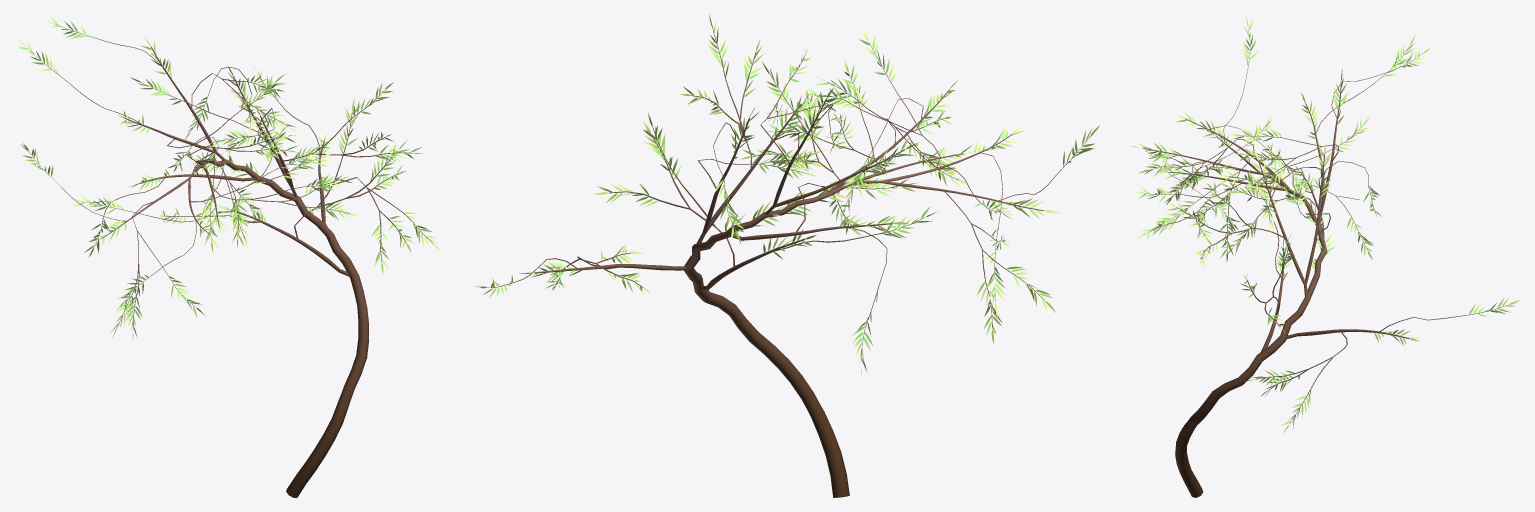
The model's file is Branch2.fbx.
3 renders of one model, left to right at view 1: azimuth 30°, elevation 25°; view 2: azimuth 150°, elevation 25°; view 3: azimuth 270°, elevation 25°, orthographic. The views are drawn at different scales.
Visible parts, largest first — view 1: Branch2, BranchLeaf2; view 2: Branch2, BranchLeaf2; view 3: Branch2, BranchLeaf2.
Boxes of the visible parts, bbox=[...] form: Branch2: bbox=[26, 24, 433, 497]; BranchLeaf2: bbox=[15, 14, 443, 340]; Branch2: bbox=[487, 30, 1089, 497]; BranchLeaf2: bbox=[475, 14, 1099, 377]; Branch2: bbox=[1142, 29, 1507, 497]; BranchLeaf2: bbox=[1130, 16, 1519, 433].
Size of the model in its own units: 2.86 by 2.61 by 2.34.
